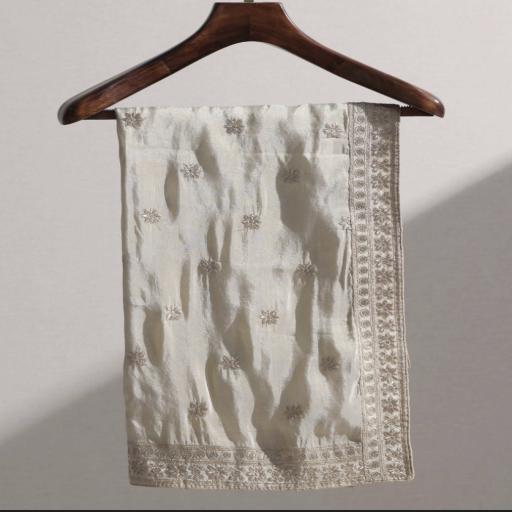Dupatta: (106, 86, 427, 496)
